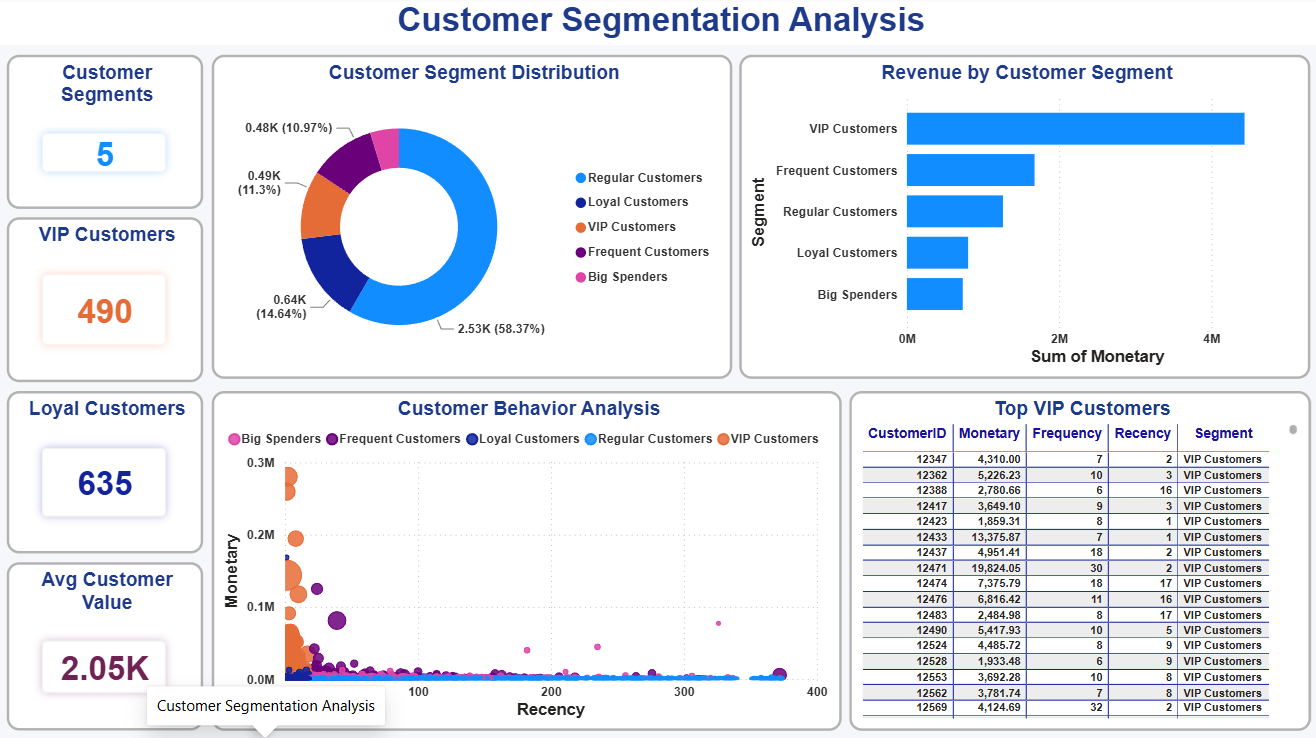

This screenshot's page, from the dashboard's own definition file:
{"tool":"powerbi","page":{"name":"Customer Segmentation Analysis","canvas":[1280,720],"ordinal":1},"visuals":[{"type":"textbox","box":[0,0,1280.4,47.3],"z":0},{"type":"cardVisual","title":"Customer Segments","fields":{"Data":["cleaned ecommerce data.Total Segments"]},"box":[8.9,56.8,189.2,149.2],"z":1000},{"type":"cardVisual","title":"VIP Customers","fields":{"Data":["cleaned ecommerce data.VIP Customers"]},"box":[8.9,213.7,189.2,159.2],"z":2000},{"type":"cardVisual","title":"Avg Customer Value","fields":{"Data":["cleaned ecommerce data.Avg Monetary Value"]},"box":[8.9,546.6,189.2,162.5],"z":3000},{"type":"cardVisual","title":"Loyal Customers","fields":{"Data":["cleaned ecommerce data.Loyal Customers"]},"box":[8.9,380.7,189.2,157],"z":4000},{"type":"donutChart","title":"Customer Segment Distribution","fields":{"Category":["rfm customer segments.Segment"],"Y":["CountNonNull(rfm customer segments.CustomerID)"]},"box":[205.9,56.8,502,312.8],"z":5000},{"type":"clusteredBarChart","title":"Revenue by Customer Segment","fields":{"Category":["rfm customer segments.Segment"],"Y":["Sum(rfm customer segments.Monetary)"]},"box":[715.8,56.8,551,312.8],"z":6000},{"type":"scatterChart","title":"Customer Behavior Analysis","fields":{"X":["rfm customer segments.Recency"],"Y":["rfm customer segments.Monetary"],"Series":["rfm customer segments.Segment"],"Size":["Sum(rfm customer segments.Frequency)"]},"box":[205.9,380.7,607.8,328.4],"z":7000},{"type":"tableEx","title":"Top VIP Customers","fields":{"Values":["rfm customer segments.CustomerID","rfm customer segments.Monetary","rfm customer segments.Frequency","rfm customer segments.Recency","rfm customer segments.Segment"]},"box":[821.5,380.7,445.3,328.4],"z":8000}]}

Visuals, with their boxes in screenshot pixels (x1, y1, x2, y2), scaled from the page's 1280x720 canvas onto the 1316x738 screenshot:
textbox: 0, 0, 1315, 48
"Customer Segments" cardVisual: 9, 58, 204, 211
"VIP Customers" cardVisual: 9, 219, 204, 382
"Avg Customer Value" cardVisual: 9, 560, 204, 727
"Loyal Customers" cardVisual: 9, 390, 204, 551
"Customer Segment Distribution" donutChart: 212, 58, 728, 379
"Revenue by Customer Segment" clusteredBarChart: 736, 58, 1302, 379
"Customer Behavior Analysis" scatterChart: 212, 390, 837, 727
"Top VIP Customers" tableEx: 845, 390, 1302, 727
